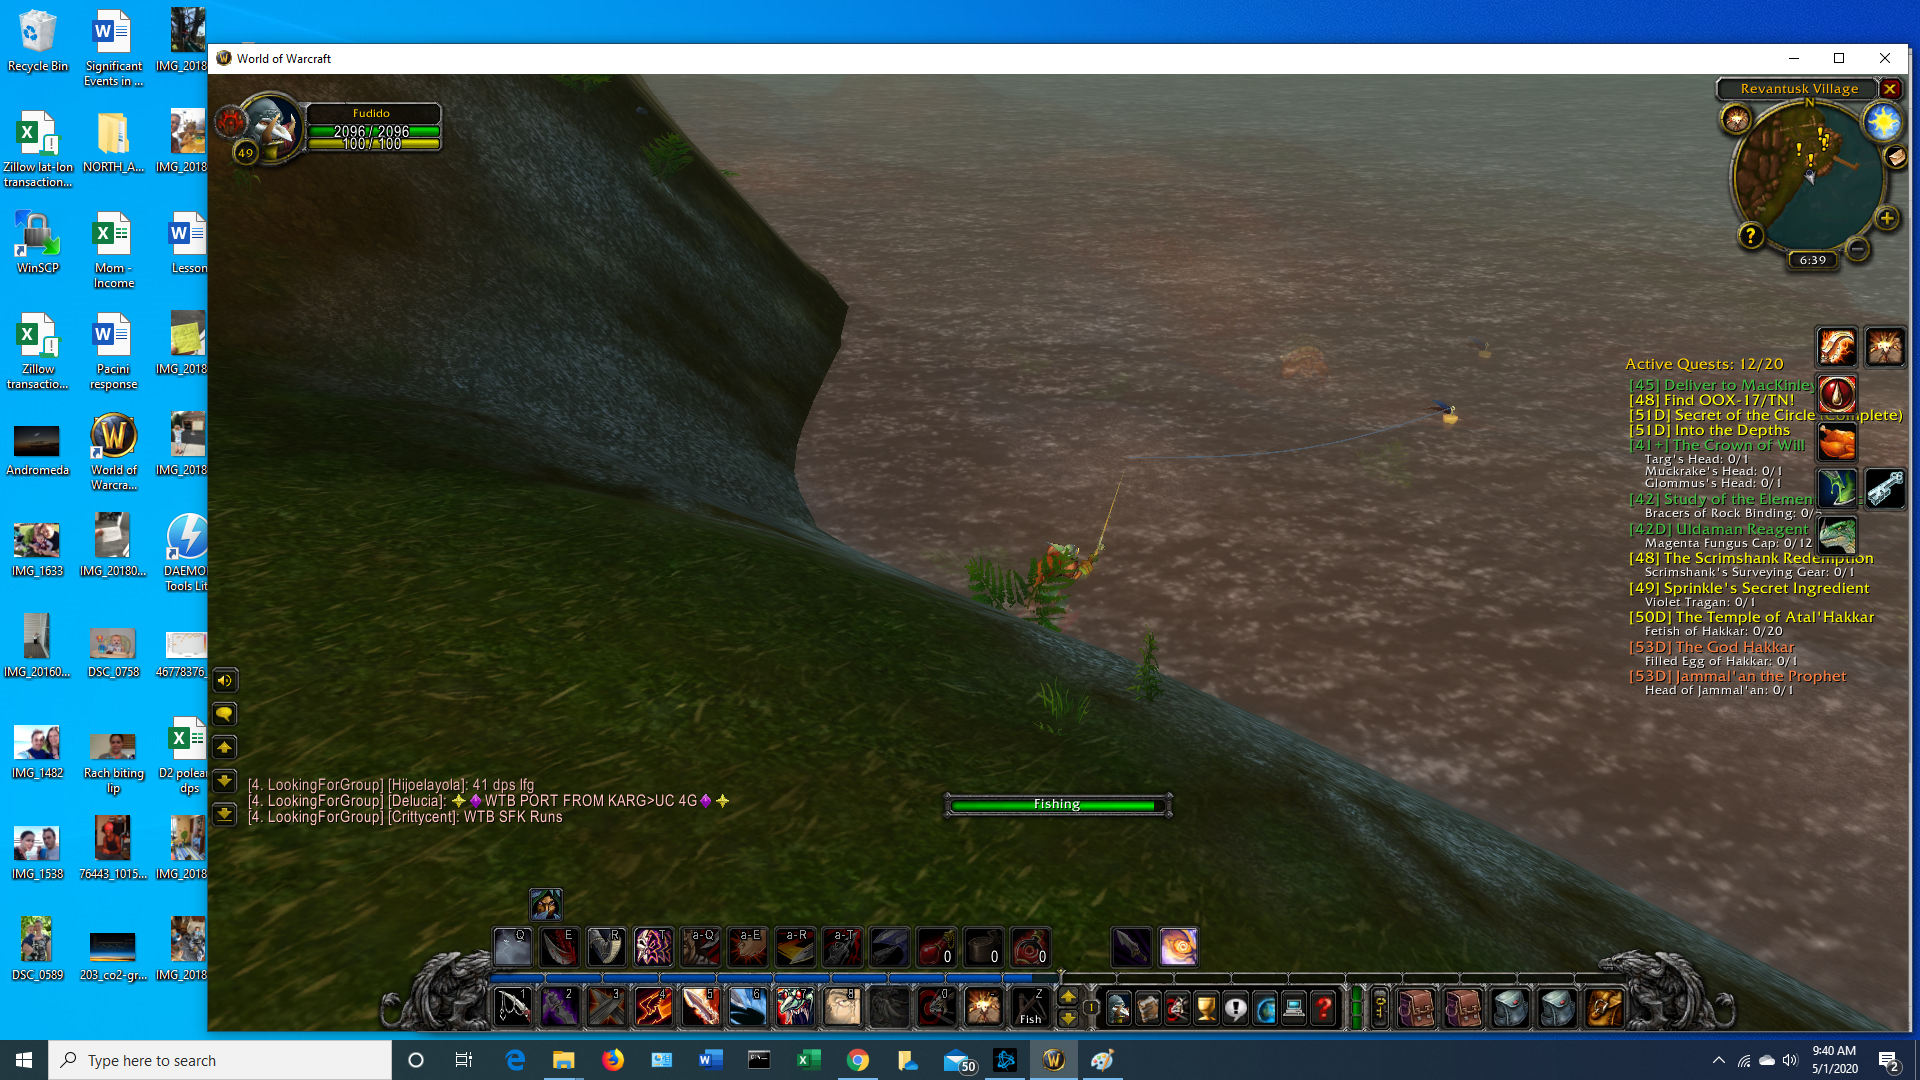bobble: (1433, 397, 1460, 429)
